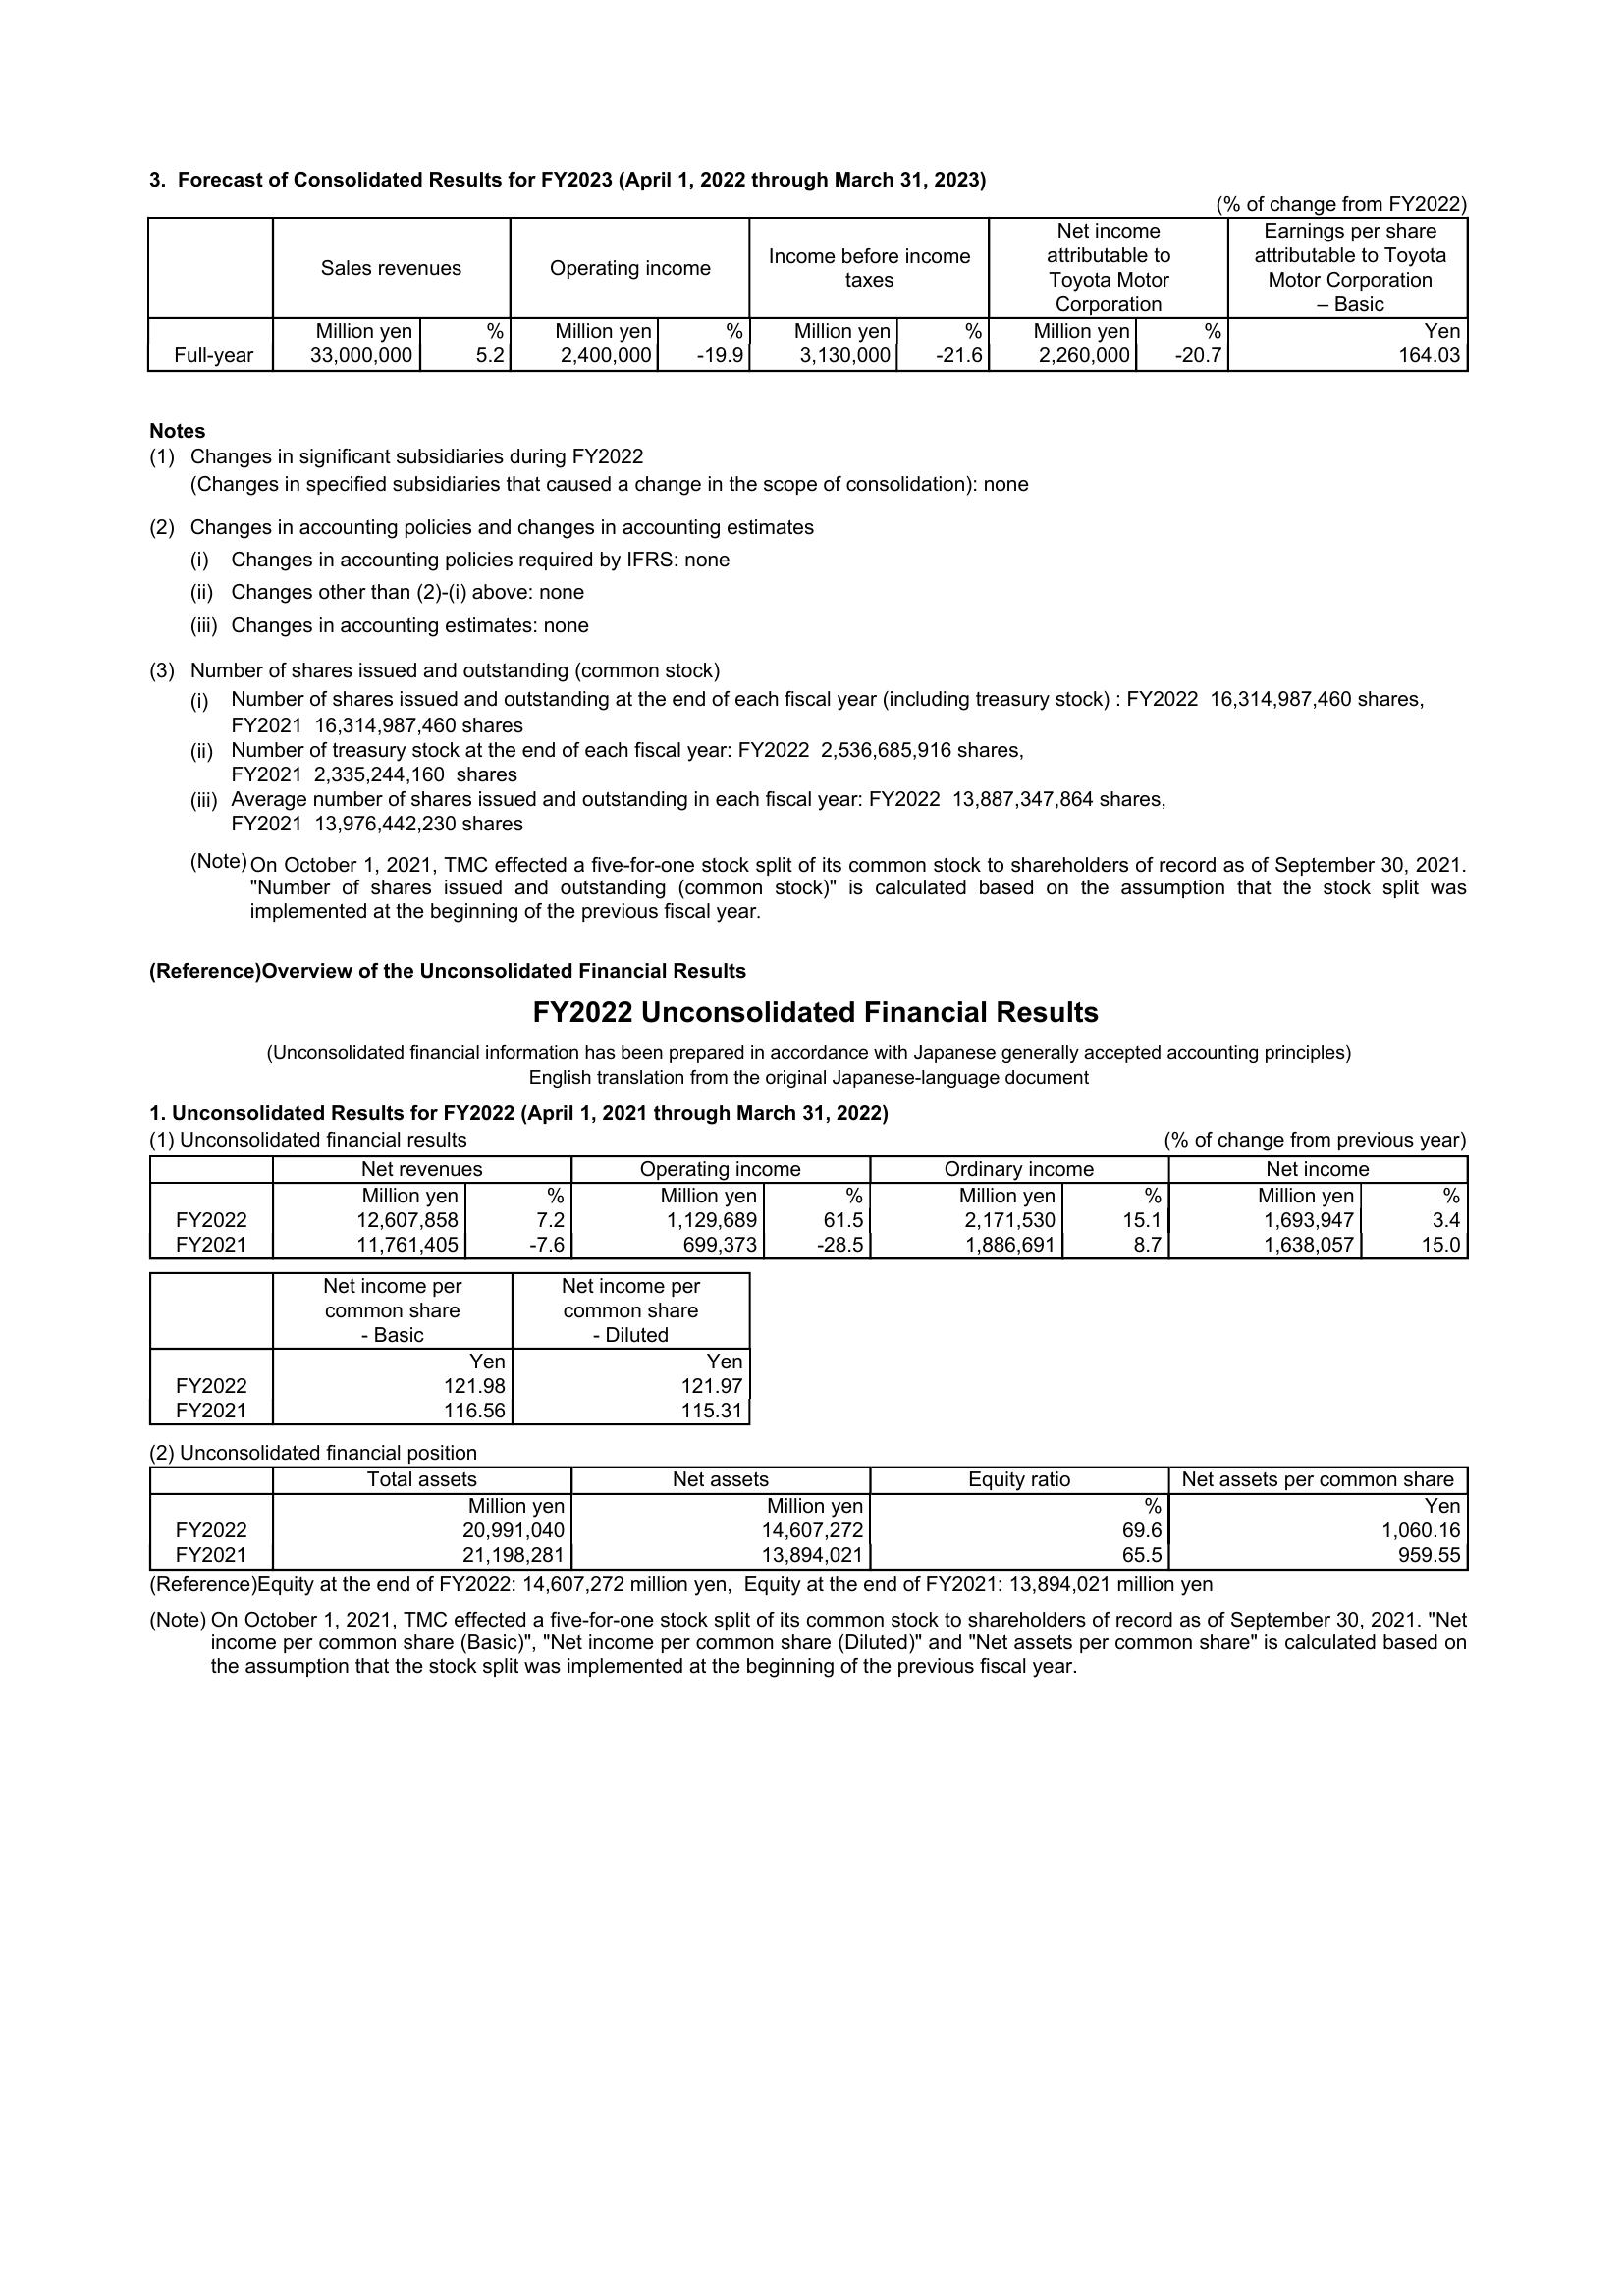Footer: (0, 2122, 1624, 2296)
Header: (0, 0, 1624, 144)
Table: (65, 183, 1510, 425), (109, 1123, 1466, 1263), (100, 1455, 1497, 1590), (109, 1263, 763, 1414)
